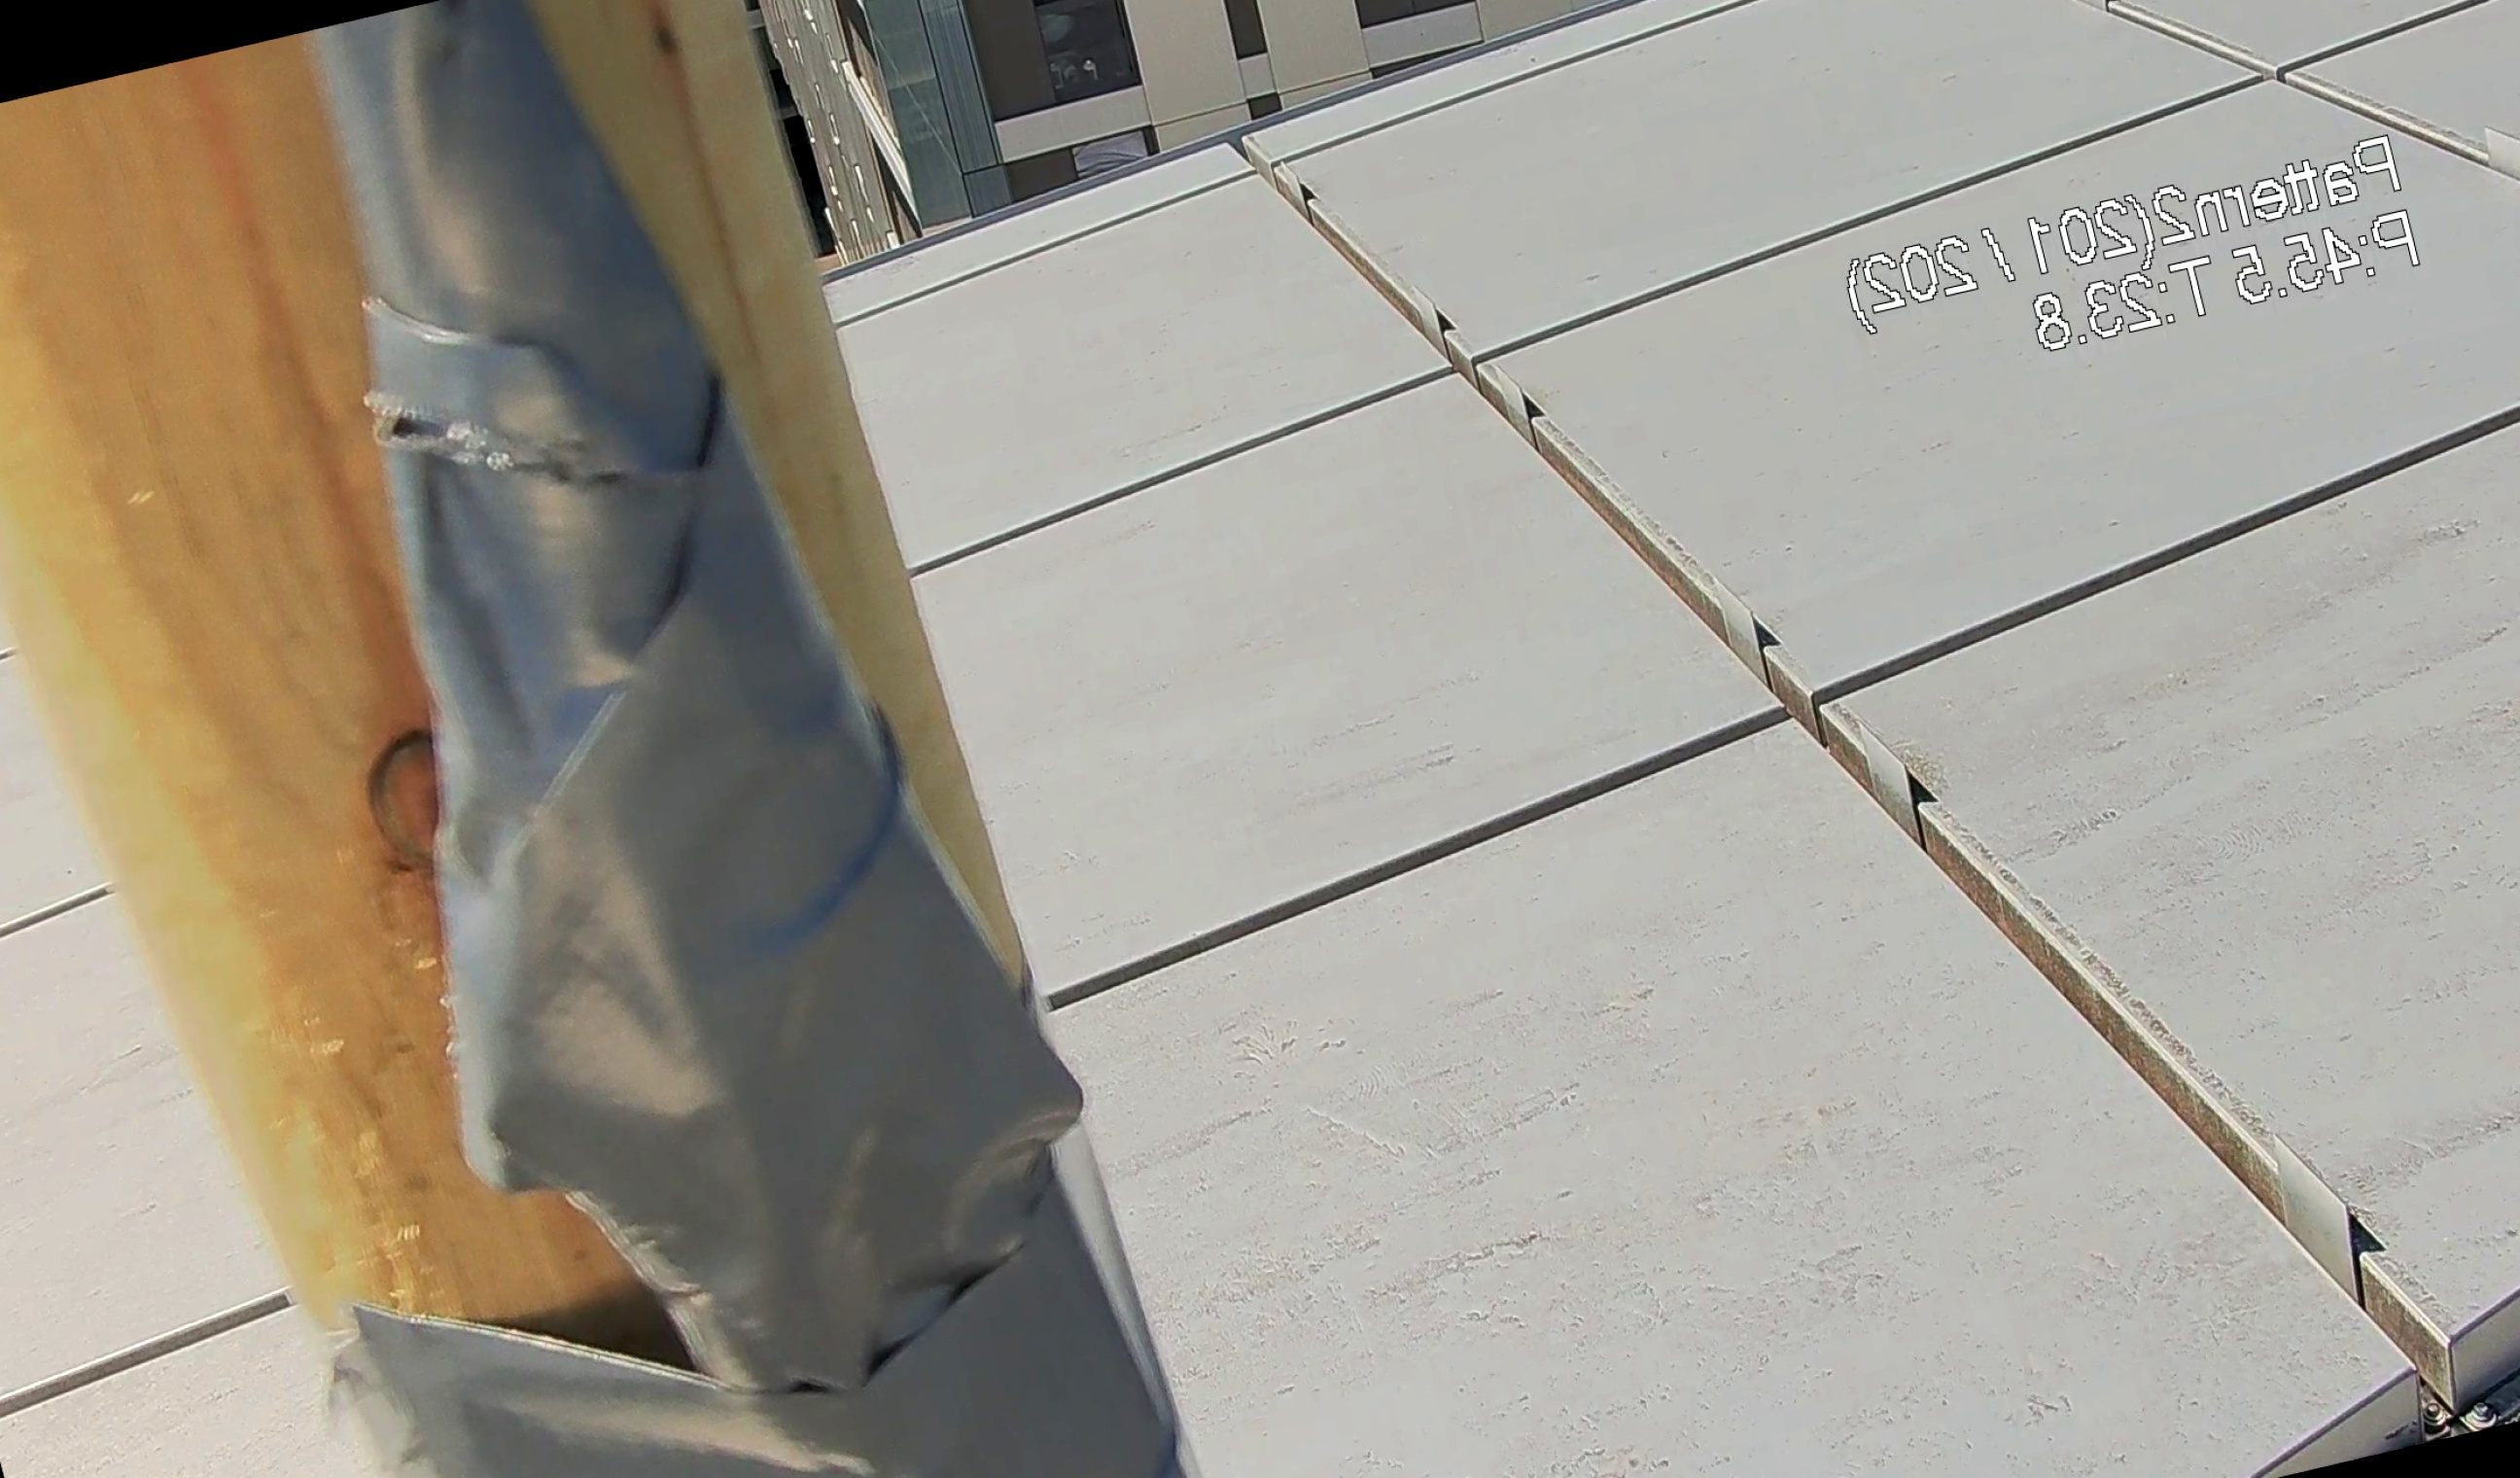Other: (146, 0, 1173, 1478)
